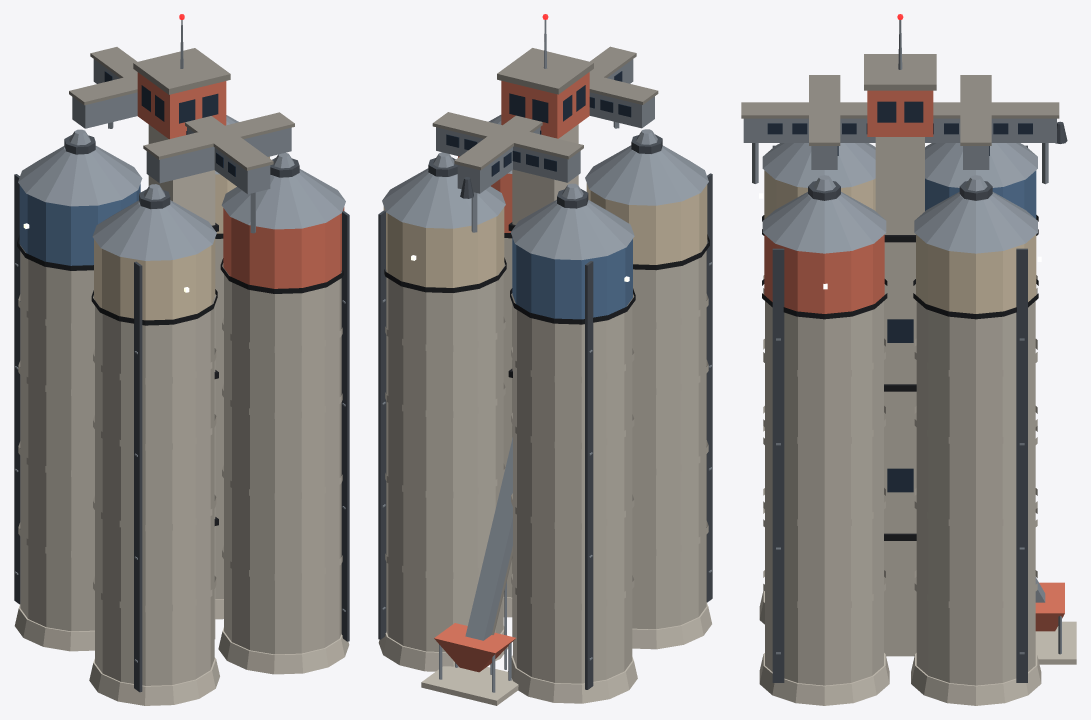
Rendered from silo_cluster.glb.
3 views of the same model, side by side, from view 1: azimuth 30°, elevation 25°; view 2: azimuth 150°, elevation 25°; view 3: azimuth 270°, elevation 25° (orthographic).
Visible parts, largest first — view 1: Body; view 2: Body; view 3: Body.
Part boxes in pixels (left/top/right/bottom): Body: left=14, top=14, right=349, bottom=705; Body: left=378, top=14, right=712, bottom=705; Body: left=741, top=14, right=1076, bottom=705.
Bounding box in the file's own units: 17.3 × 42.3 × 20.35.
